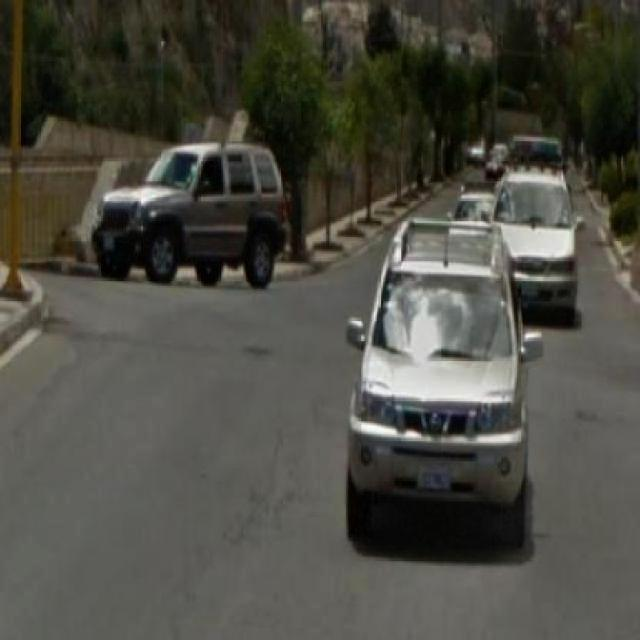car: (355, 236, 531, 567), (92, 135, 288, 284), (506, 151, 582, 319)
